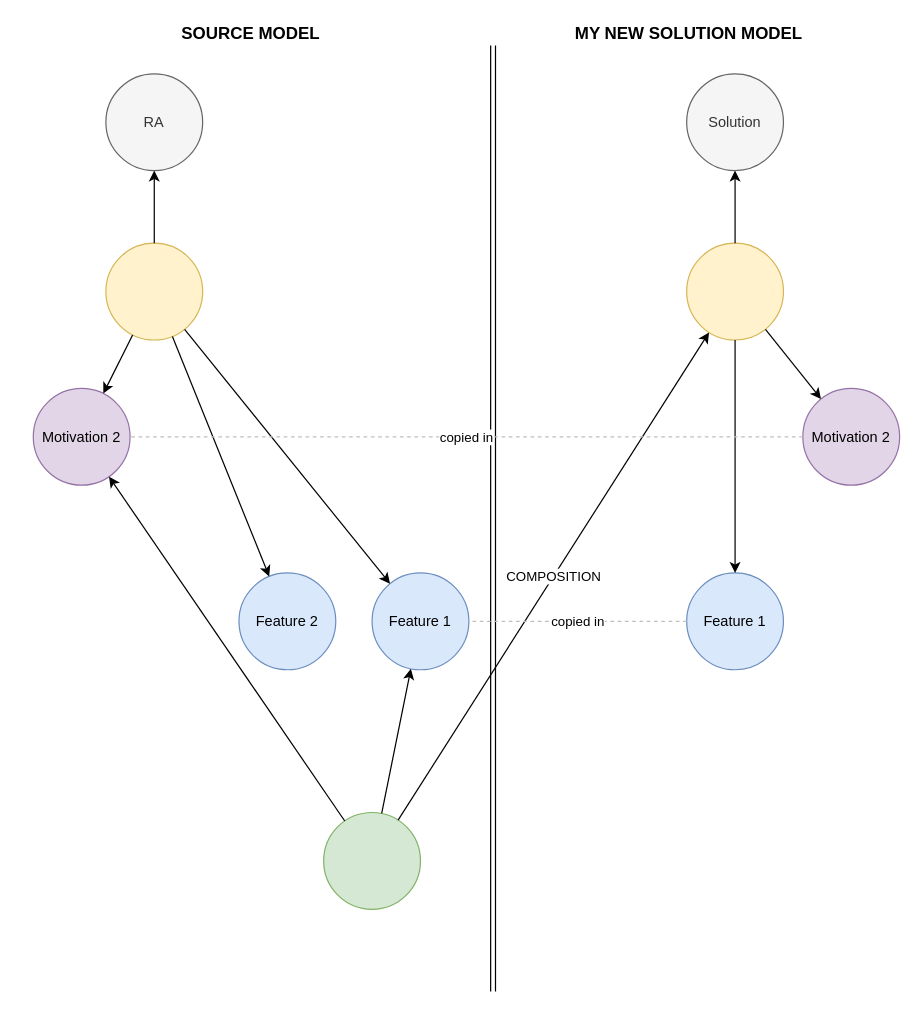
Some shapes in this 921 by 1013 pixel diagram are drawn without their labels. Each missing label, with the centre of its shape:
"Pattern" belongs at point (371, 860).
"RA Name" belongs at point (154, 291).
"Sol Name" belongs at point (734, 291).
